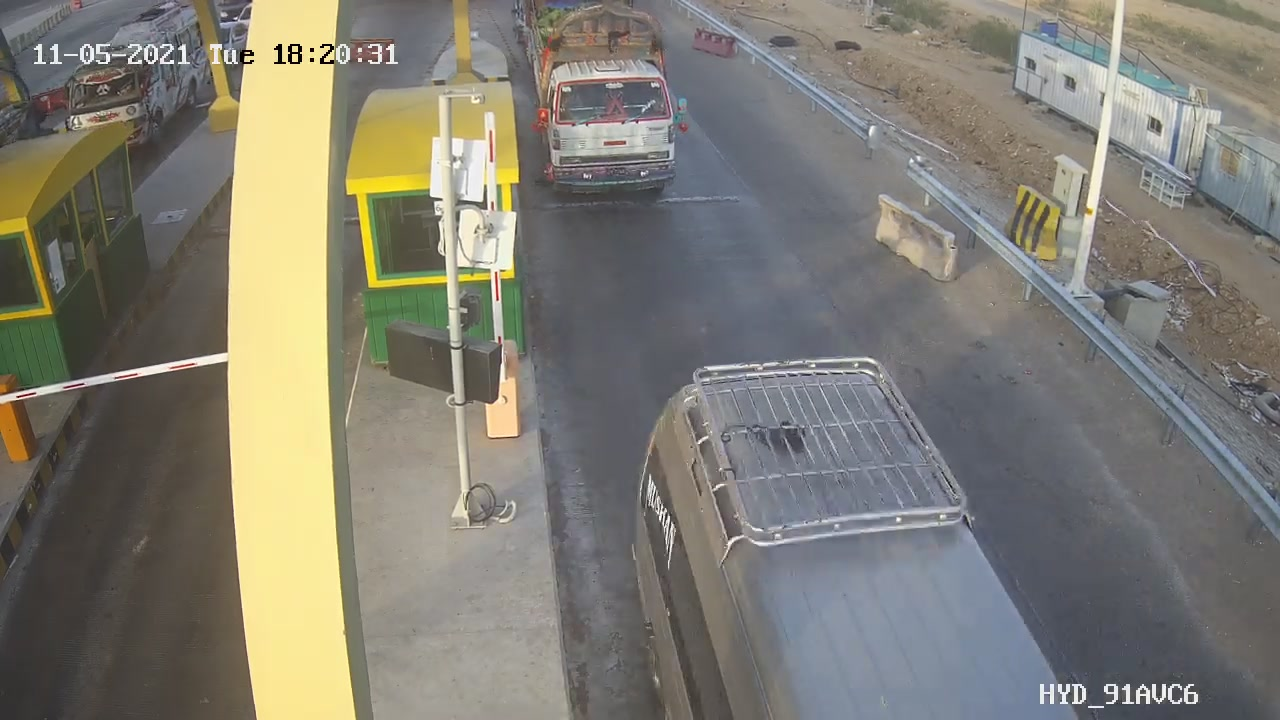F5: (511, 14, 696, 200)
